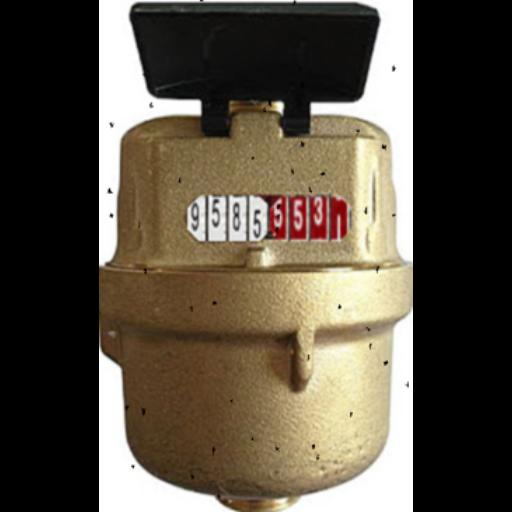1: (332, 197, 353, 240)
3: (311, 196, 328, 241)
5: (250, 195, 268, 241), (209, 196, 227, 241), (271, 194, 288, 240), (292, 194, 307, 240)
8: (228, 195, 246, 241)
9: (186, 195, 204, 241)
border_water_meter_number: (185, 194, 353, 242)
